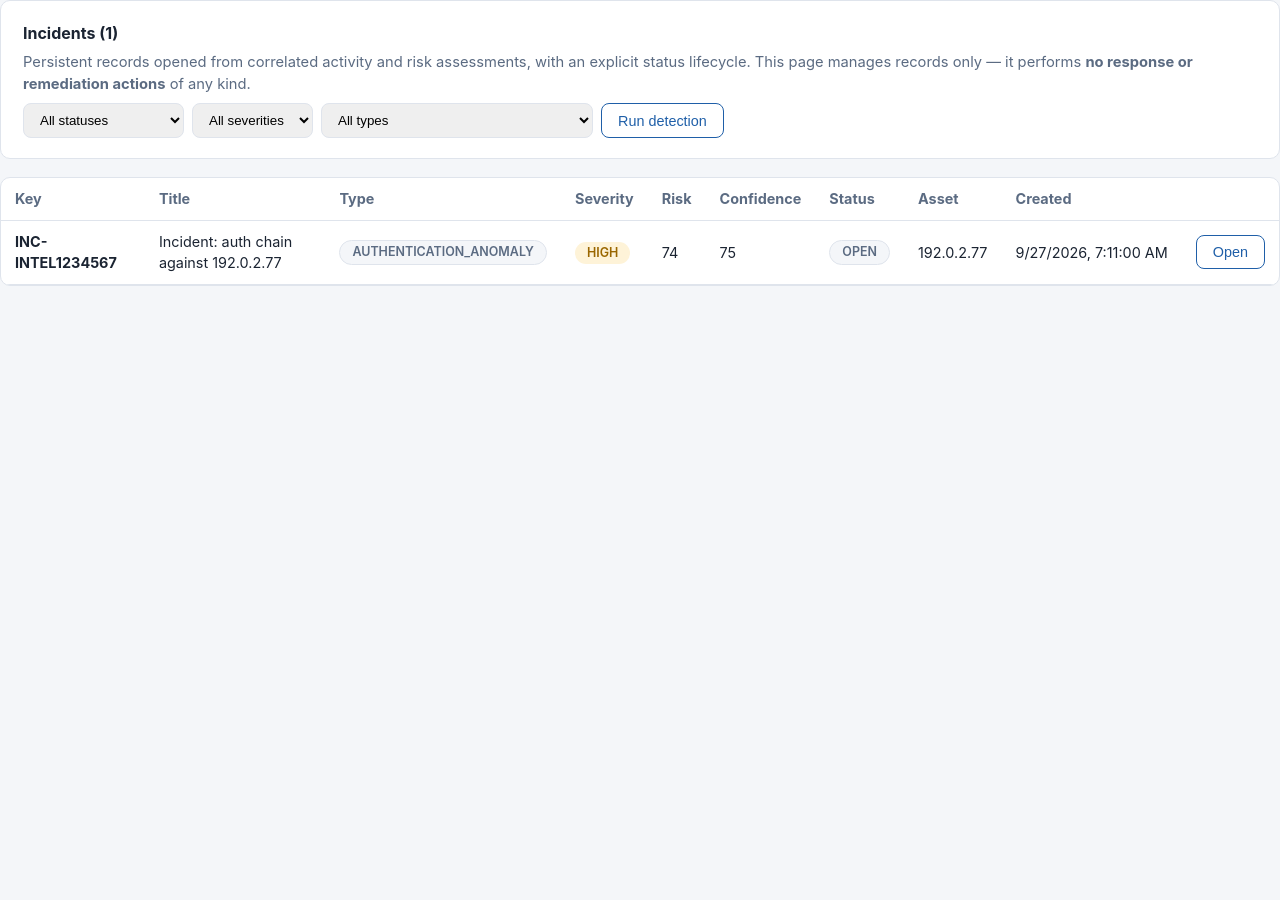
Test: Incident lifecycle hardening (Phase 3, Step 38) › applies a successful transition from the server response and refreshes the list
The width and height of the screenshot is (1280, 900).
Click the button "Open": (1230, 252) [1196,235,1265,269]
(page scrolled)
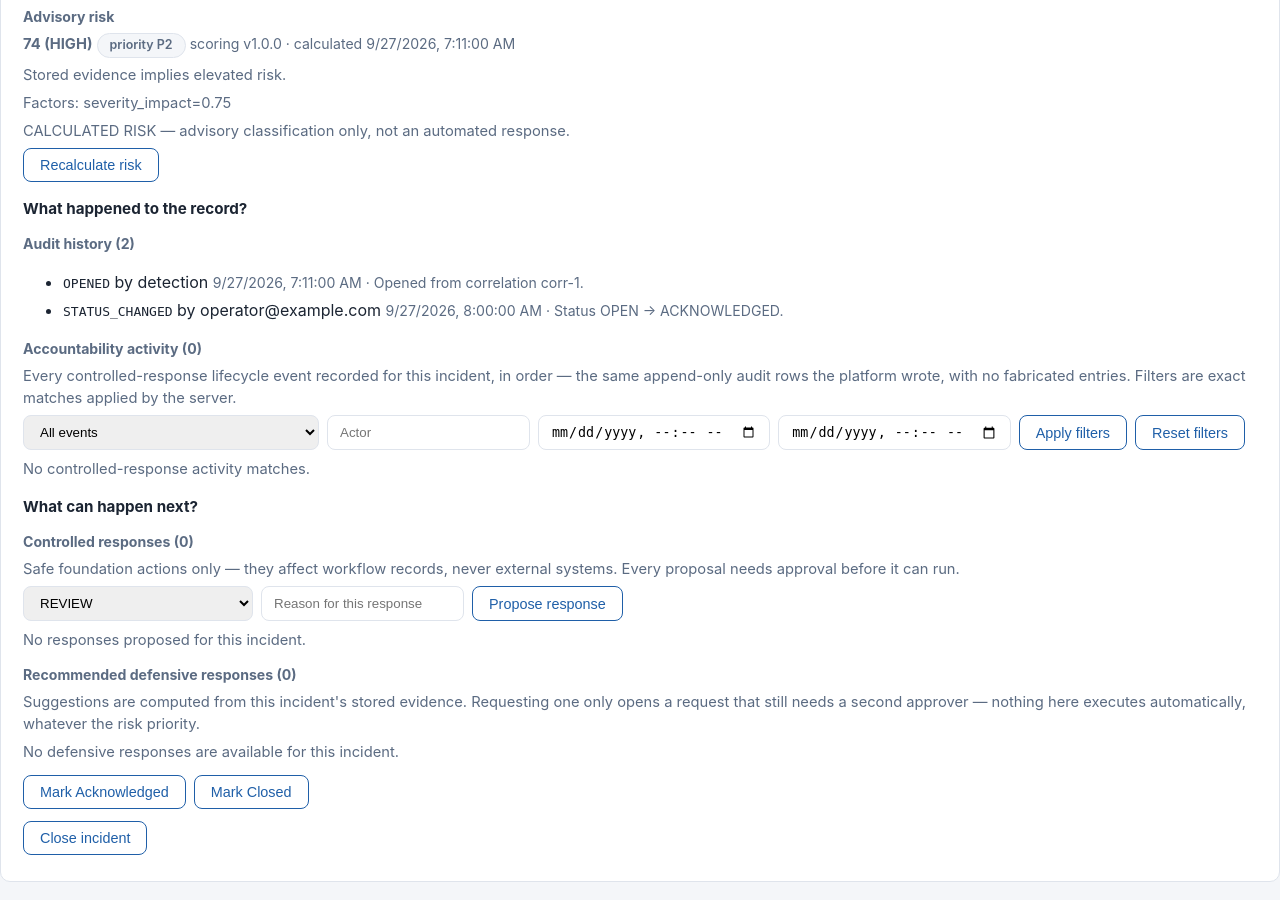
Click the button "Mark Acknowledged": (104, 792) [23,775,186,809]
(page scrolled)
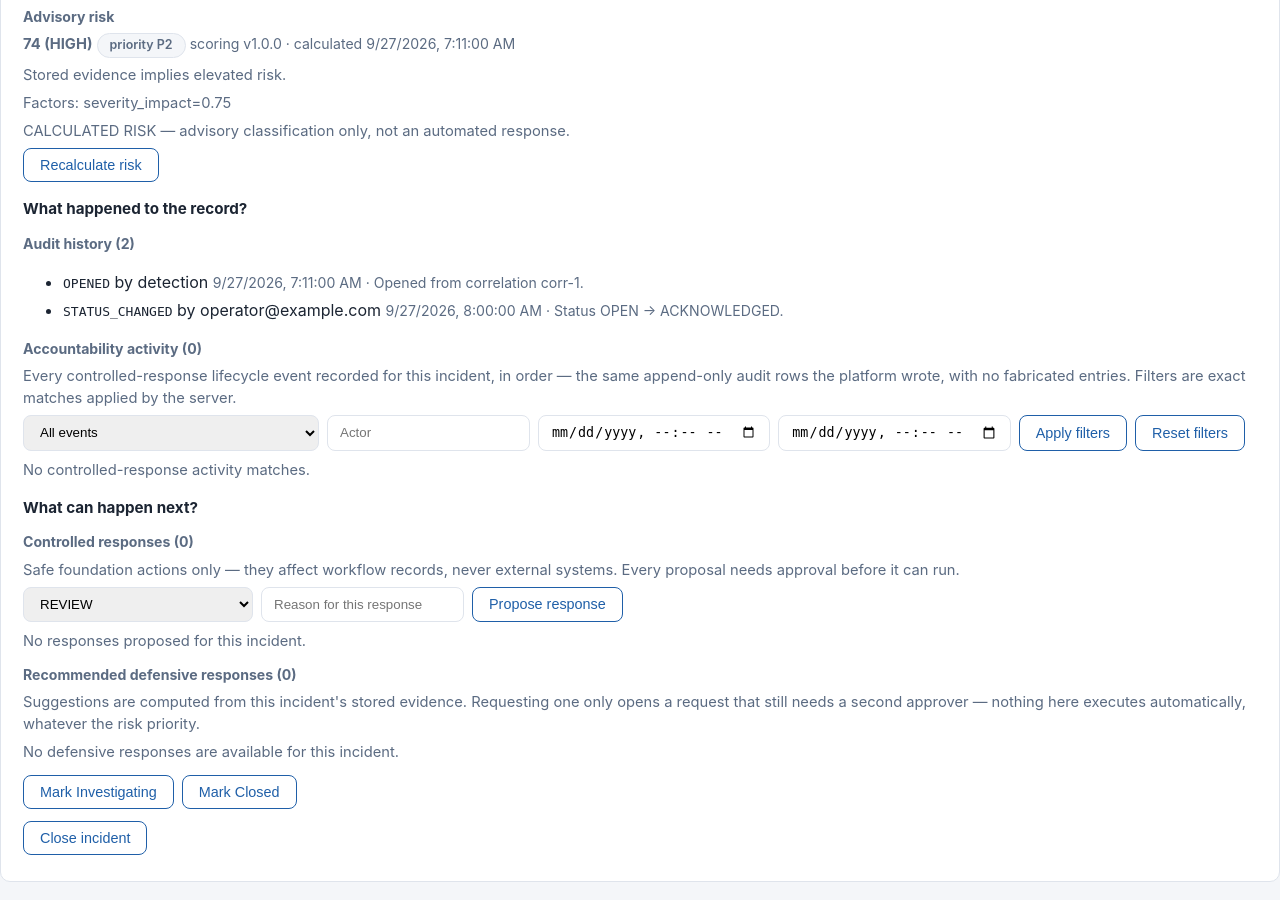
Now the button "Mark Investigating" is shown, box [23,775,174,809]
Now the button "Mark Acknowledged" is gone
